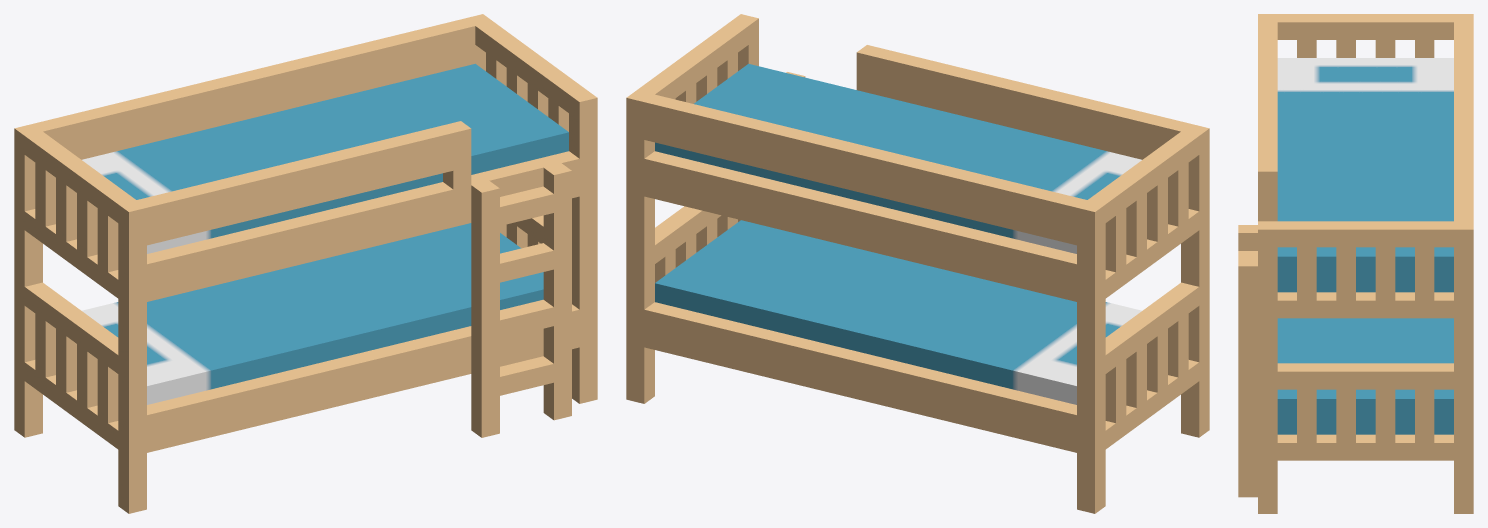
Rendered from bunkbed.obj.
3 renders of one model, left to right at view 1: azimuth 30°, elevation 25°; view 2: azimuth 150°, elevation 25°; view 3: azimuth 270°, elevation 25°, orthographic. The views are drawn at different scales.
Visible parts, largest first — view 1: bunkbed; view 2: bunkbed; view 3: bunkbed.
Part boxes in pixels (box(x1,y1,x2,y2)): bunkbed: box(14, 14, 597, 513); bunkbed: box(626, 14, 1209, 513); bunkbed: box(1238, 14, 1473, 513).
Bounding box in the file's own units: 26 × 16 × 12.
